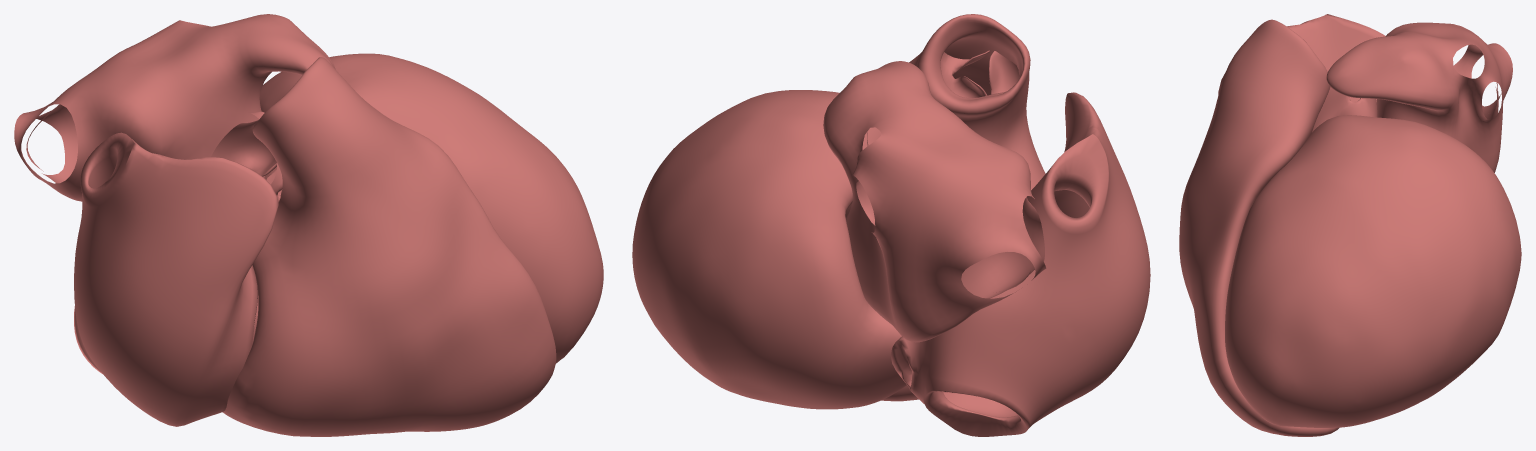
The model's file is heart-female.glb.
3 views of the same model, side by side, from view 1: azimuth 30°, elevation 25°; view 2: azimuth 150°, elevation 25°; view 3: azimuth 270°, elevation 25° (orthographic). The views are drawn at different scales.
Parts seen in each view (by area): view 1: VH_F_right_ventricle, VH_F_right_cardiac_atrium, VH_F_left_ventricle, VH_F_left_cardiac_atrium, VH_F_aortic_valve; view 2: VH_F_left_ventricle, VH_F_right_cardiac_atrium, VH_F_left_cardiac_atrium, VH_F_right_ventricle, VH_F_pulmonary_valve; view 3: VH_F_left_ventricle, VH_F_right_ventricle, VH_F_left_cardiac_atrium, VH_F_right_cardiac_atrium, VH_F_aortic_valve.
Part boxes in pixels (x1,y1,x2,y2): VH_F_right_ventricle: (222,57,556,436); VH_F_right_cardiac_atrium: (74,132,278,426); VH_F_left_ventricle: (259,53,603,363); VH_F_left_cardiac_atrium: (14,14,335,201); VH_F_aortic_valve: (211,111,282,202); VH_F_left_ventricle: (632,90,906,409); VH_F_right_cardiac_atrium: (890,92,1150,436); VH_F_left_cardiac_atrium: (823,61,1046,342); VH_F_right_ventricle: (881,14,1045,401); VH_F_pulmonary_valve: (940,50,1019,97); VH_F_left_ventricle: (1225,115,1521,427); VH_F_right_ventricle: (1179,19,1339,436); VH_F_left_cardiac_atrium: (1326,22,1512,172); VH_F_right_cardiac_atrium: (1218,14,1385,101); VH_F_aortic_valve: (1312,87,1377,132).
Size of the model in its own units: 0.1425 by 0.11 by 0.1015.
